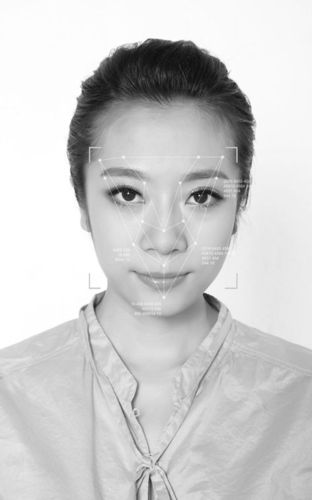no_mask: (83, 90, 243, 316)
